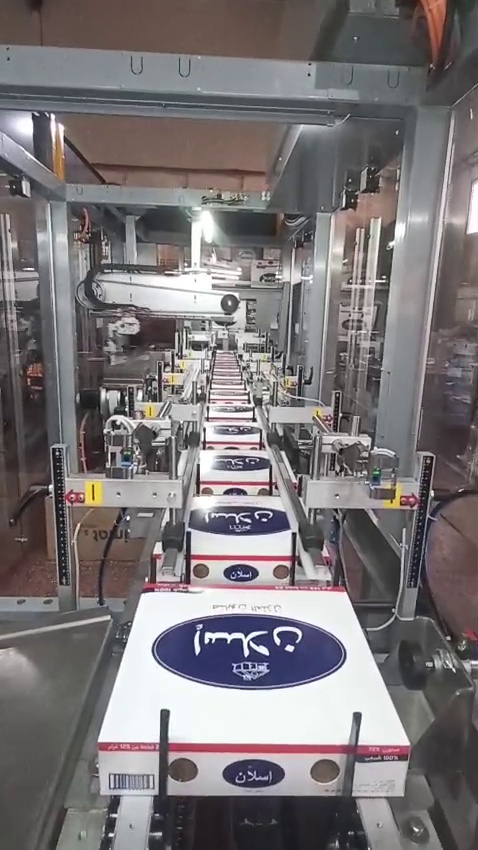savon: (73, 480, 118, 574), (234, 0, 288, 56), (180, 134, 232, 168), (68, 118, 112, 151), (0, 14, 38, 42), (240, 128, 272, 156), (52, 138, 67, 182), (383, 482, 404, 510), (191, 0, 224, 17), (116, 542, 143, 562), (167, 361, 185, 388), (141, 401, 157, 420)
